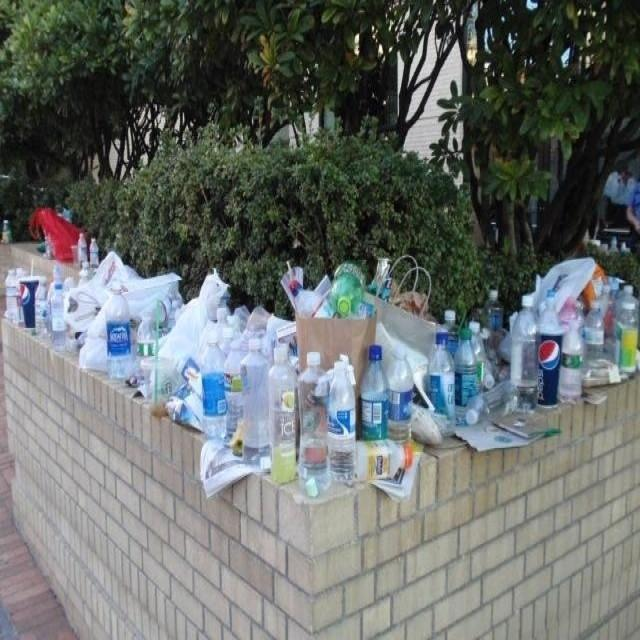Plastics: (0, 212, 640, 506)
